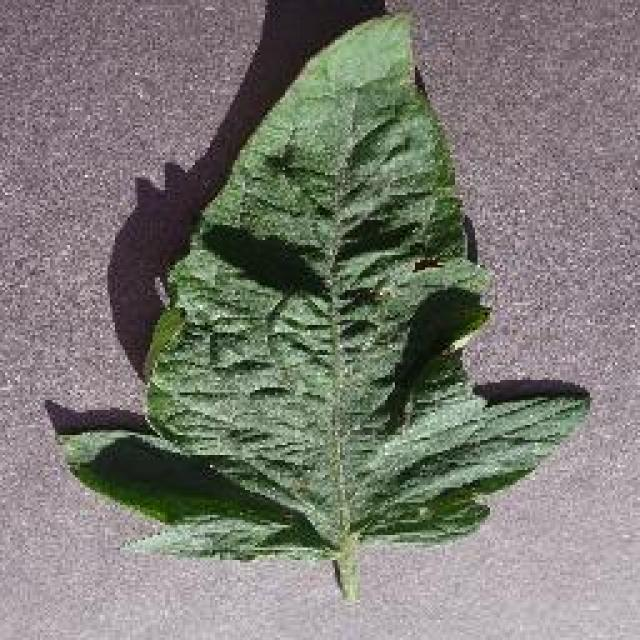Tomato___Target_Spot: (65, 15, 585, 598)
